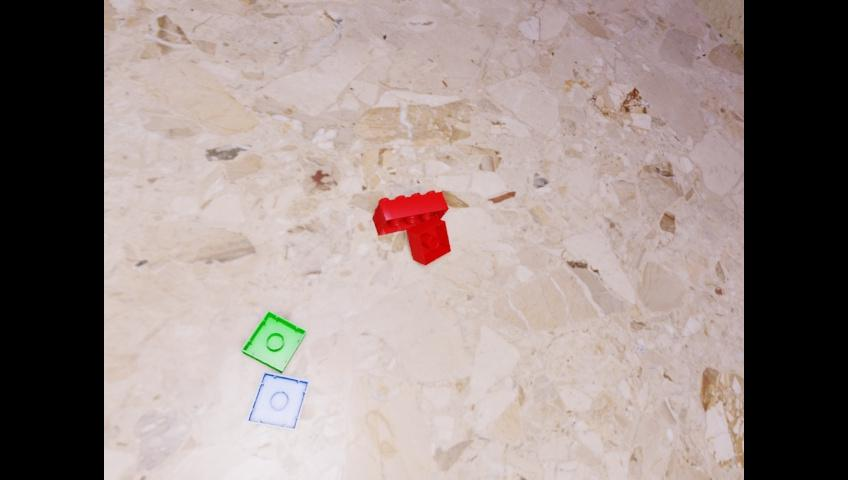2x2_blue: (246, 371, 308, 429)
2x2_green: (241, 310, 305, 373)
2x2_red: (406, 216, 450, 265)
4x2_red: (372, 189, 448, 235)
